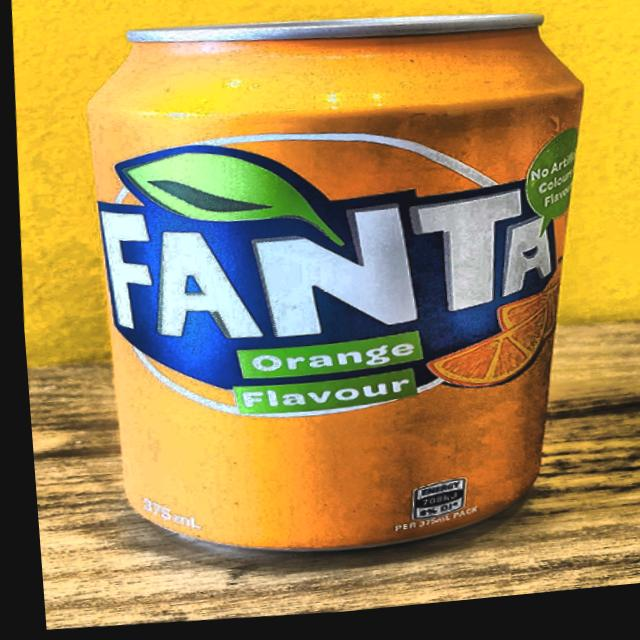Cans: (28, 0, 622, 599)
